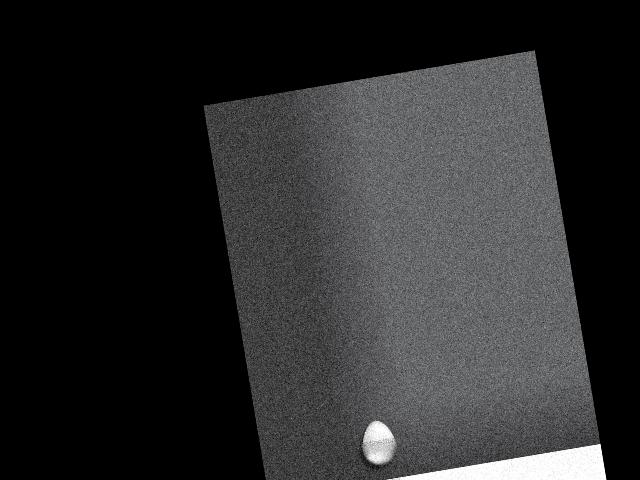egg: (357, 417, 399, 467)
